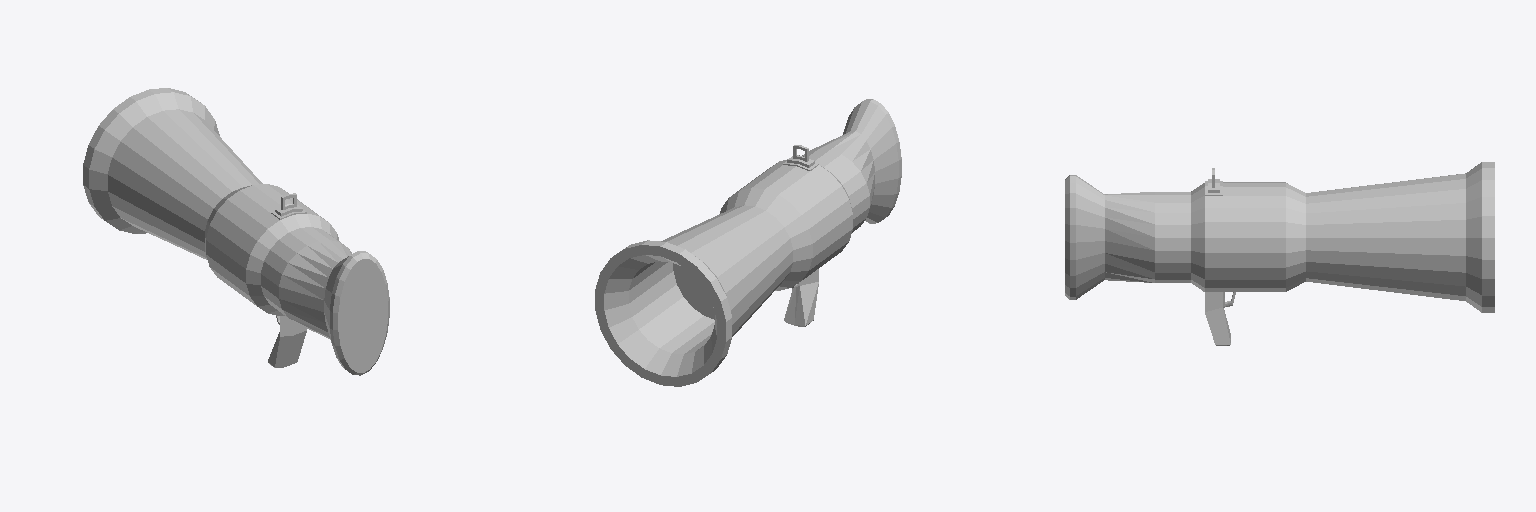
The model's file is base_one_gun.obj.
3 views of the same model, side by side, from view 1: azimuth 30°, elevation 25°; view 2: azimuth 150°, elevation 25°; view 3: azimuth 270°, elevation 25° (orthographic).
Visible parts, largest first — view 1: Cylinder.001; view 2: Cylinder.001; view 3: Cylinder.001.
Part boxes in pixels (x1,y1,x2,y2): Cylinder.001: (83, 88, 389, 375); Cylinder.001: (595, 99, 901, 386); Cylinder.001: (1065, 162, 1494, 345).
Size of the model in its own units: 0.3585 by 0.4595 by 1.02.